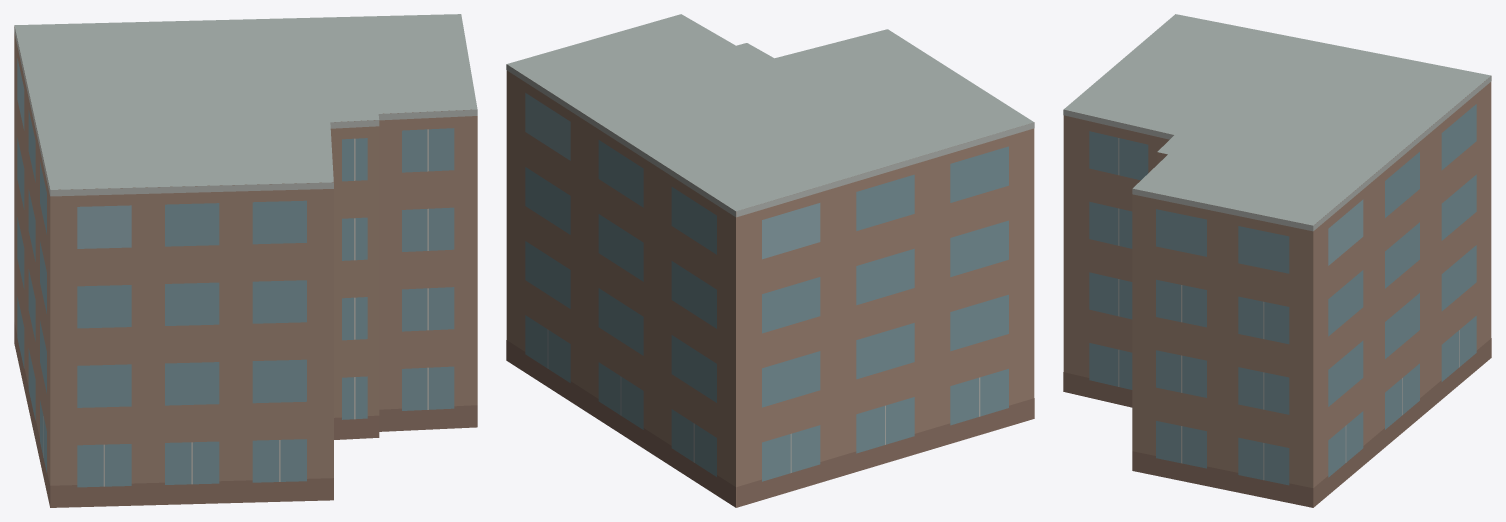
Rendered from survey-upis-32581418.glb.
3 views of the same model, side by side, from view 1: azimuth 30°, elevation 25°; view 2: azimuth 150°, elevation 25°; view 3: azimuth 270°, elevation 25° (orthographic). The views are drawn at different scales.
Visible parts, largest first — view 1: survey-upis-32581418.tmp; view 2: survey-upis-32581418.tmp; view 3: survey-upis-32581418.tmp.
Part boxes in pixels (left/top/right/bottom): survey-upis-32581418.tmp: left=14, top=14, right=477, bottom=507; survey-upis-32581418.tmp: left=506, top=14, right=1034, bottom=507; survey-upis-32581418.tmp: left=1063, top=14, right=1491, bottom=507.
Bounding box in the file's own units: 19.31 × 12 × 16.5.
